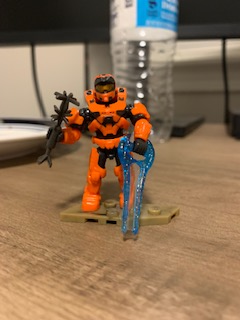spartan: (44, 72, 154, 214)
